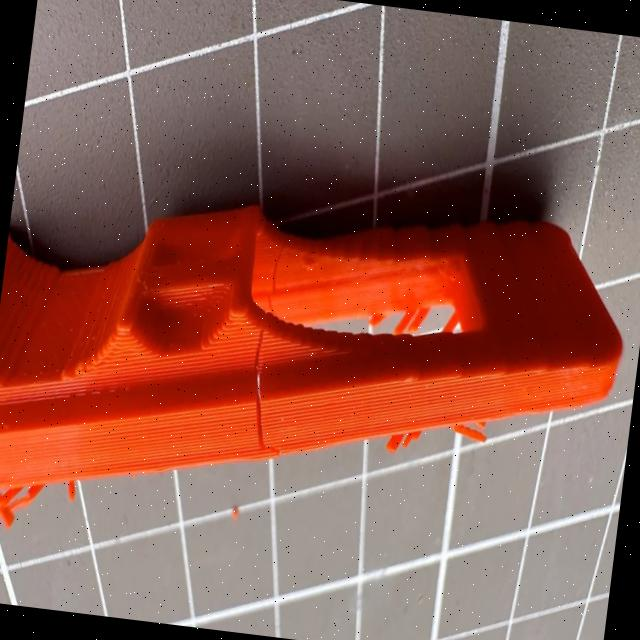cracks: (238, 250, 288, 444)
